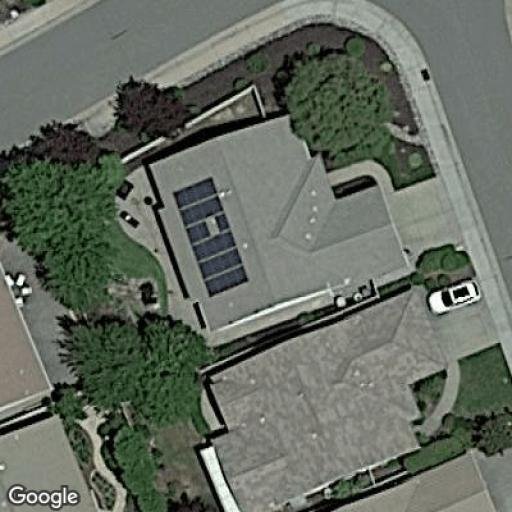solar-panel: (170, 173, 248, 299)
